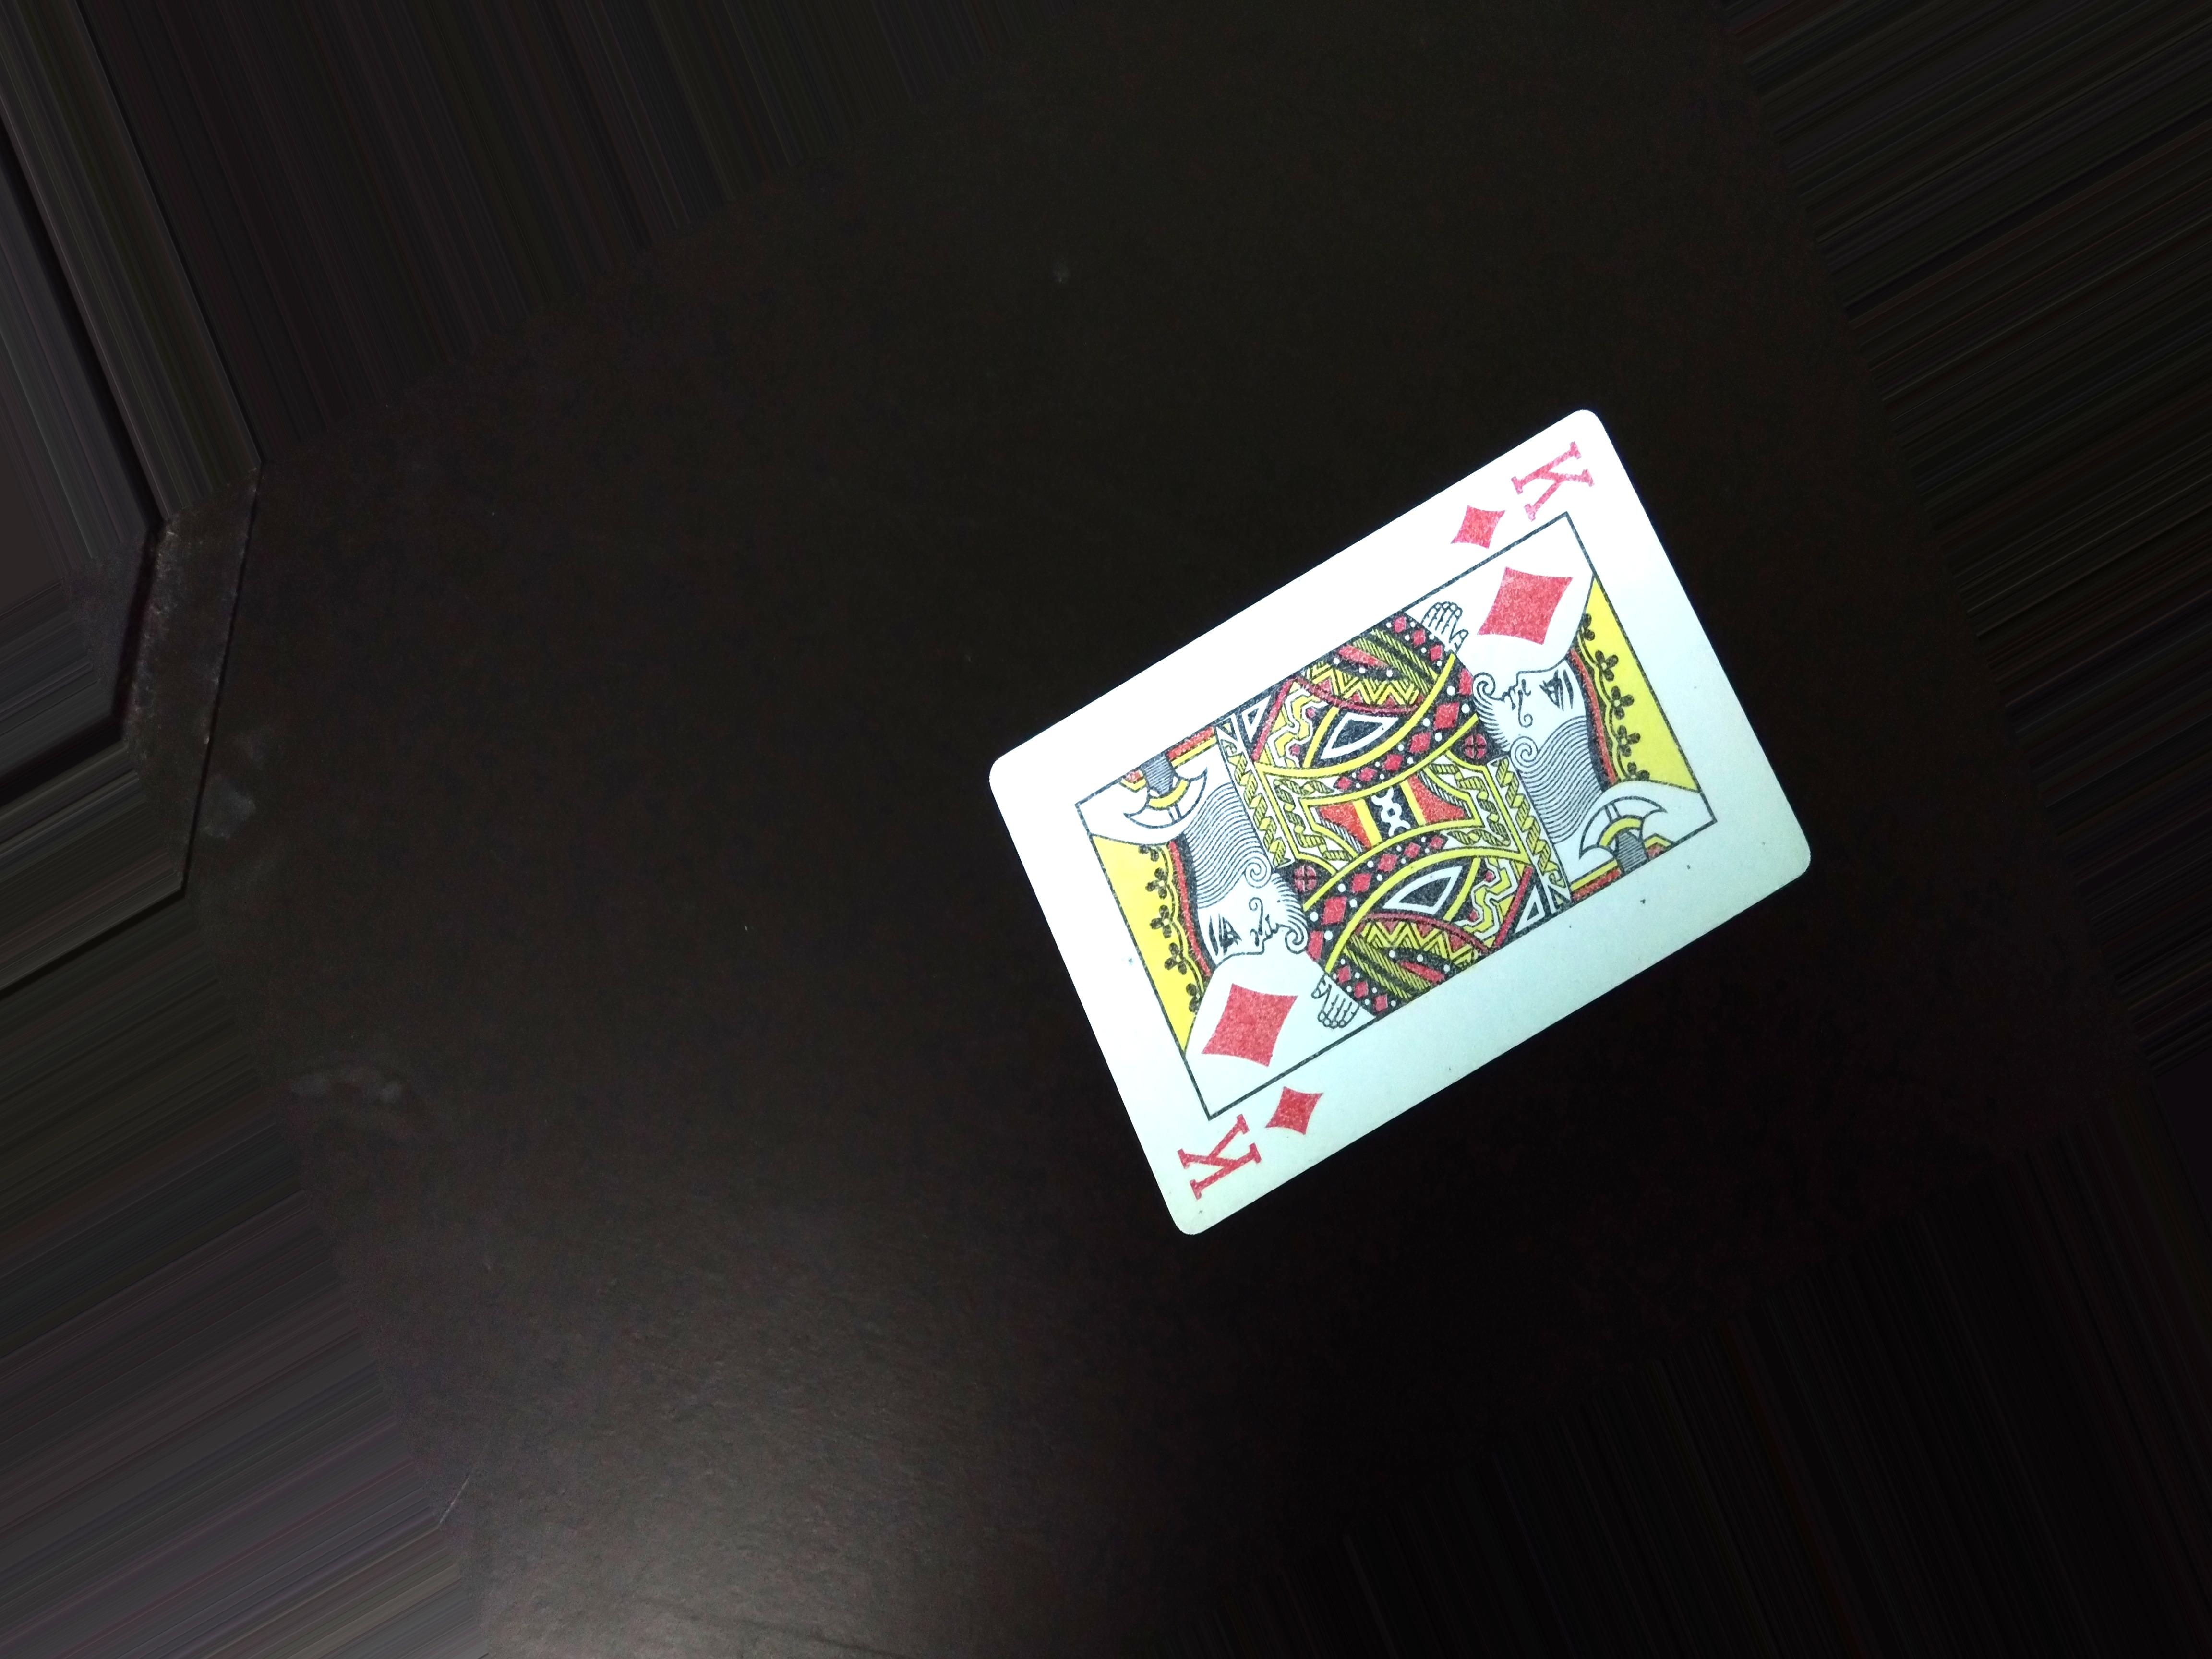KD: (1170, 1073, 1336, 1206)
